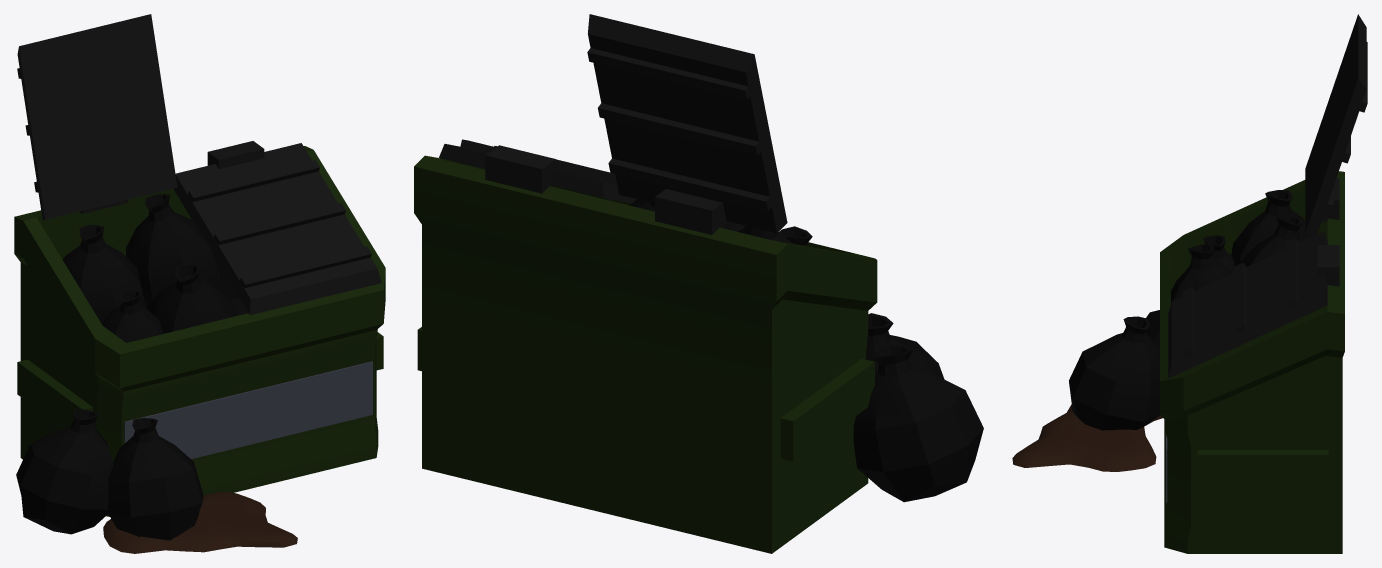
The model's file is TrashContainer_Open.obj.
3 views of the same model, side by side, from view 1: azimuth 30°, elevation 25°; view 2: azimuth 150°, elevation 25°; view 3: azimuth 270°, elevation 25° (orthographic). The views are drawn at different scales.
Parts seen in each view (by area): view 1: TrashContainer_Open_Cube.017; view 2: TrashContainer_Open_Cube.017; view 3: TrashContainer_Open_Cube.017.
Boxes of the visible parts, x1,y1,x2,y2 form: TrashContainer_Open_Cube.017: (14,14,385,553); TrashContainer_Open_Cube.017: (414,14,983,553); TrashContainer_Open_Cube.017: (1012,14,1367,553).
Size of the model in its own units: 3.16 by 3.34 by 2.63.
